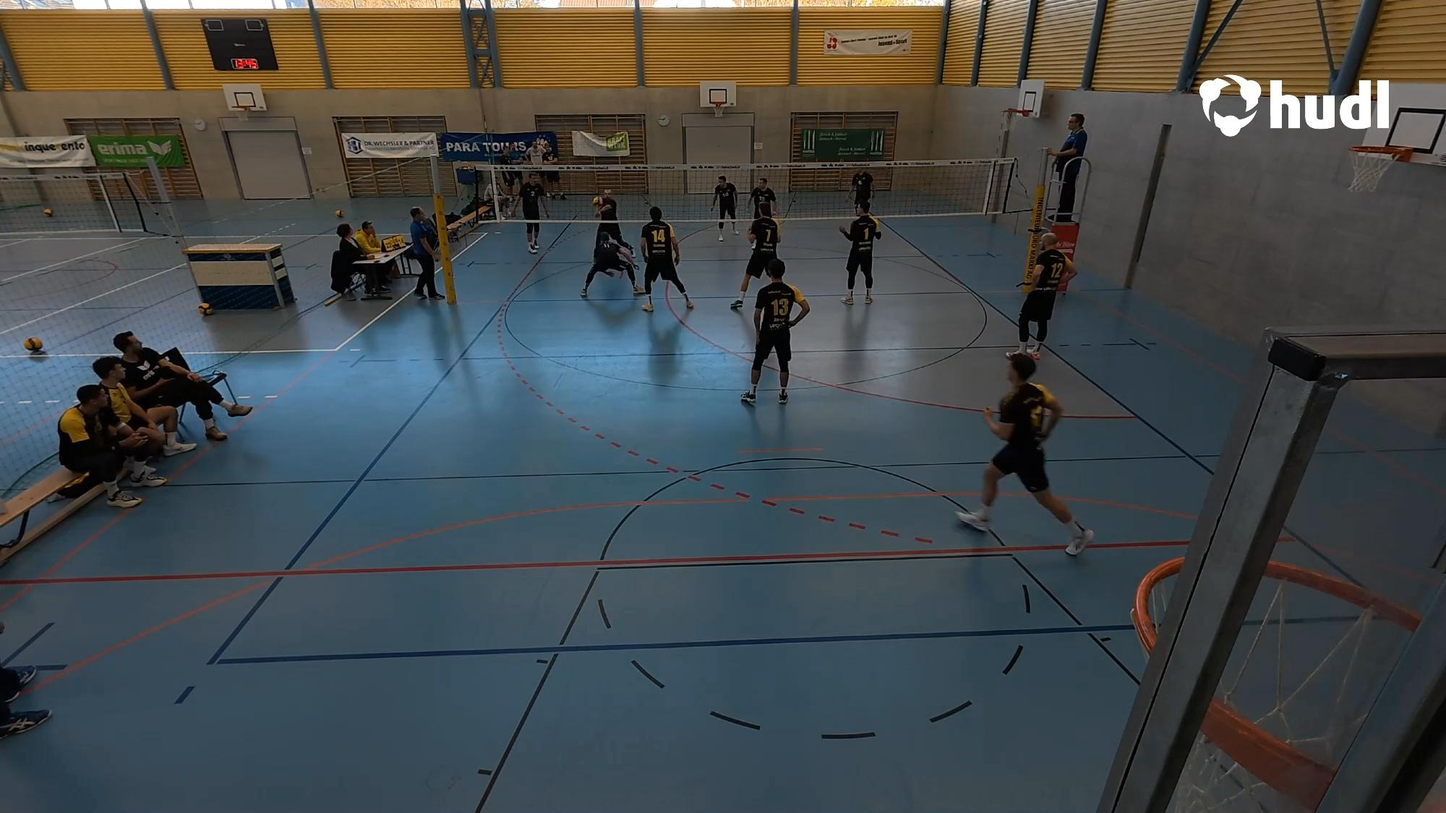battuta: (589, 187, 620, 244)
